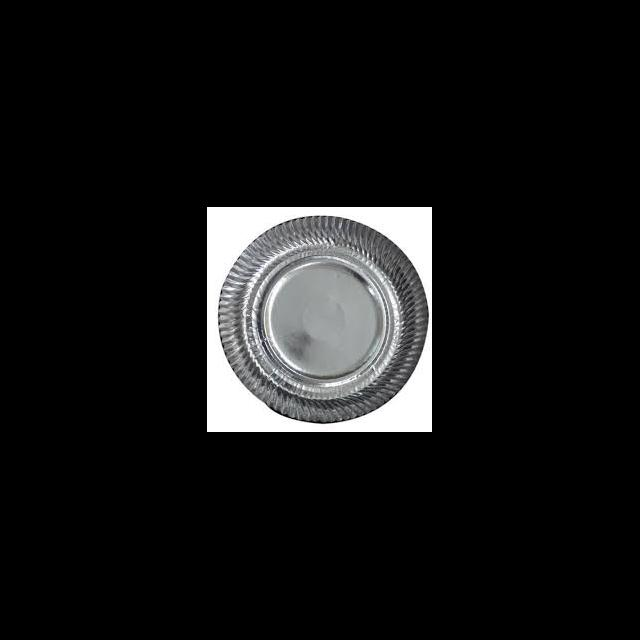metal: (217, 215, 428, 422)
